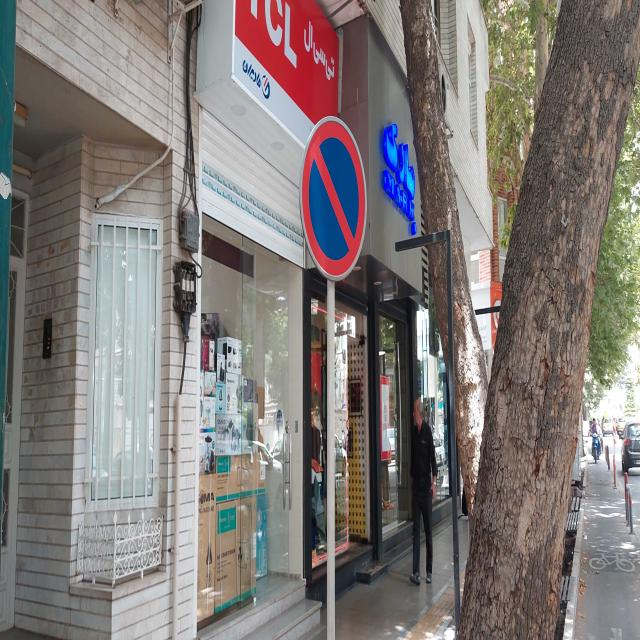forb_stopping: (300, 114, 368, 280)
